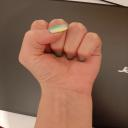Fist: (18, 14, 105, 94)
